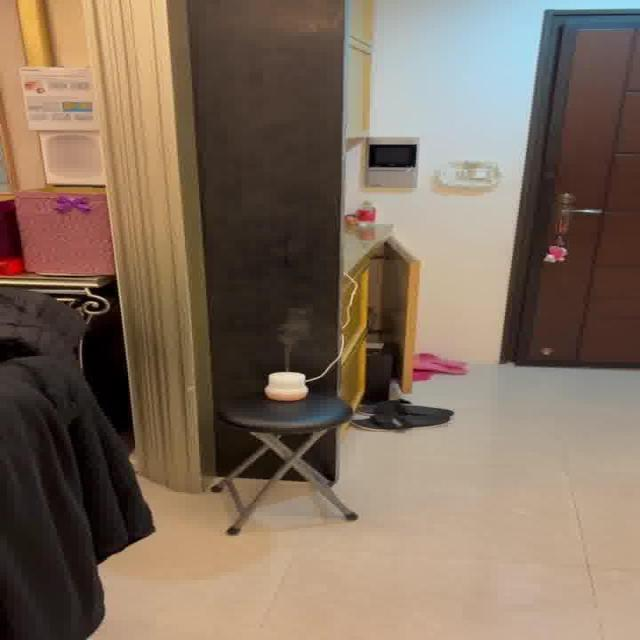fire: (276, 303, 328, 363)
